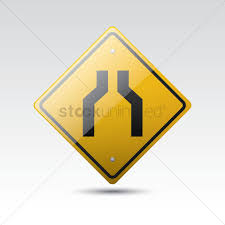Narrow_road: (30, 25, 192, 188)
